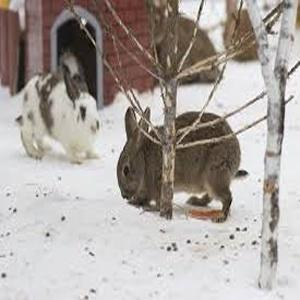rabbit: (16, 51, 99, 162), (176, 137, 240, 219), (117, 106, 162, 210), (185, 121, 231, 142)
